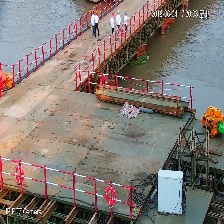person: (109, 12, 115, 39), (123, 11, 130, 33), (116, 9, 121, 35), (91, 11, 96, 36), (95, 10, 99, 37)
